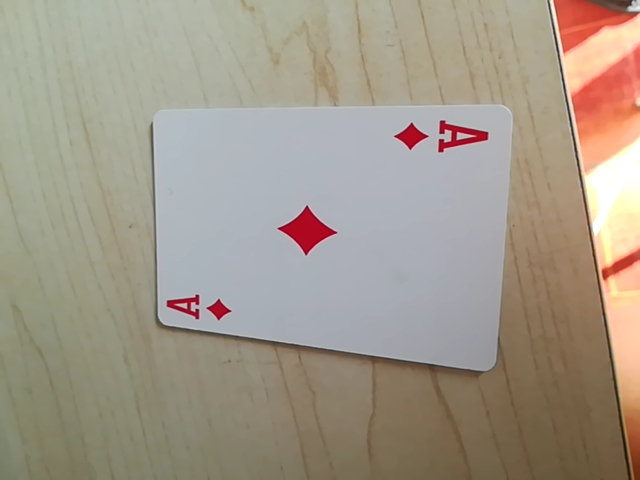fk a: (395, 115, 494, 161), (162, 290, 238, 328)
